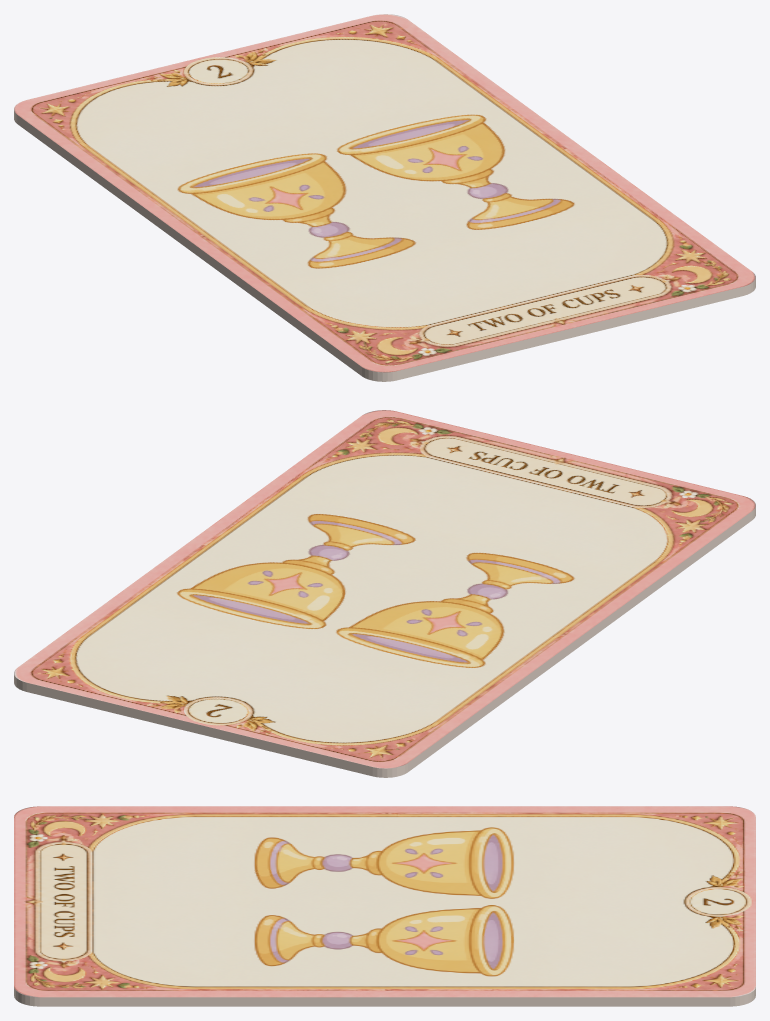
File: two_of_cups.fbx
The picture shows the model from 3 angles, top to bottom: view 1: azimuth 30°, elevation 25°; view 2: azimuth 150°, elevation 25°; view 3: azimuth 270°, elevation 25°; orthographic projection.
Parts seen in each view (by area): view 1: two_of_cups; view 2: two_of_cups; view 3: two_of_cups.
Part boxes in pixels (x1,y1,x2,y2): two_of_cups: [14, 14, 755, 381]; two_of_cups: [14, 410, 755, 777]; two_of_cups: [14, 806, 755, 1006].
Bounding box in the file's own units: 7 × 0.16 × 11.5.
3 materials, 2 textured.
